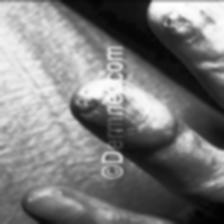Potentially Malignant Skin Tumors: (160, 0, 204, 32), (77, 84, 108, 118)
